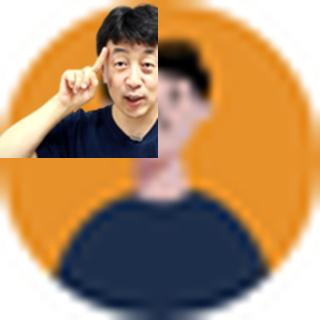IRRITATED: (57, 45, 110, 111)
